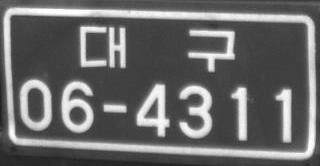0: (19, 77, 52, 132)
1: (223, 85, 259, 142), (267, 86, 300, 144)
3: (178, 84, 214, 139)
4: (135, 83, 169, 137)
6: (60, 79, 94, 132)
대구_D: (79, 23, 236, 74)
